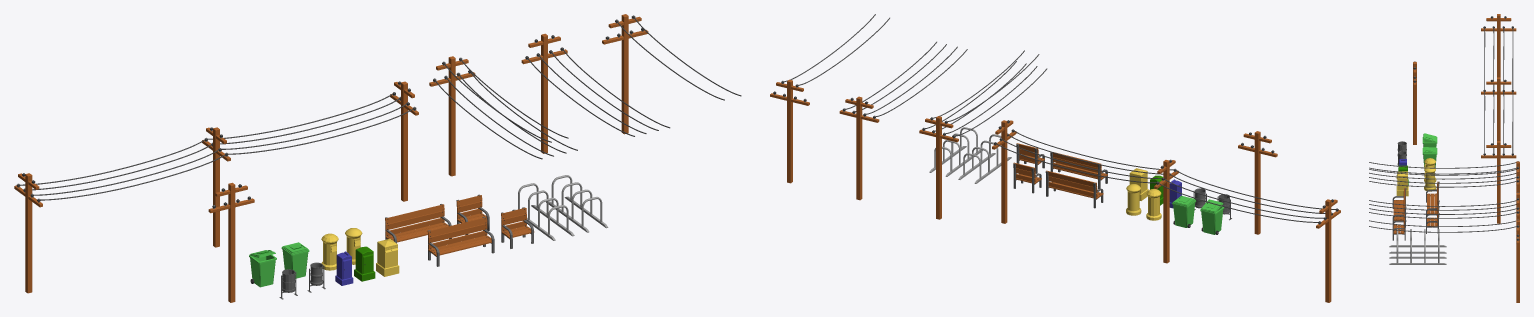
File: street_stuff_v2.fbx
3 renders of one model, left to right at view 1: azimuth 30°, elevation 25°; view 2: azimuth 150°, elevation 25°; view 3: azimuth 270°, elevation 25°, orthographic. The views are drawn at different scales.
Visible parts, largest first — view 1: Cube.003, cable.003, cable, cable.001, banco_x_3_flat, Cube.001, banco_x_3_smooth, Cube.004, Cube, aparcabicis.smooth, aparcabicis, banco_x_1_flat (+7 smaller); view 2: cable, cable.003, Cube.003, cable.001, Cube.001, banco_x_3_smooth, Cube.004, banco_x_3_flat, Cube, aparcabicis, aparcabicis.smooth, banco_x_1_smooth (+6 smaller); view 3: Cube.003, cable.001, cable.003, cable, Cube.001, Cube, aparcabicis.smooth, aparcabicis, banco_x_3_flat, Cube.004, banco_x_3_smooth, correos_yellow (+4 smaller).
Boxes of the visible parts, left/top/right/bottom form: Cube.003: left=429, top=56, right=577, bottom=176; cable.003: left=208, top=81, right=418, bottom=201; cable: left=20, top=127, right=230, bottom=247; cable.001: left=521, top=33, right=670, bottom=153; banco_x_3_flat: left=427, top=216, right=494, bottom=266; Cube.001: left=602, top=14, right=741, bottom=134; banco_x_3_smooth: left=385, top=204, right=451, bottom=243; Cube.004: left=208, top=182, right=254, bottom=302; Cube: left=14, top=173, right=42, bottom=293; aparcabicis.smooth: left=546, top=175, right=608, bottom=232; aparcabicis: left=512, top=183, right=574, bottom=240; banco_x_1_flat: left=501, top=207, right=534, bottom=248; cable: left=1154, top=159, right=1335, bottom=263; cable.003: left=992, top=120, right=1173, bottom=223; Cube.003: left=919, top=50, right=1047, bottom=219; cable.001: left=839, top=41, right=967, bottom=200; Cube.001: left=770, top=14, right=889, bottom=183; banco_x_3_smooth: left=1045, top=170, right=1103, bottom=208; Cube.004: left=1238, top=131, right=1277, bottom=234; banco_x_3_flat: left=1050, top=152, right=1107, bottom=188; Cube: left=1316, top=199, right=1340, bottom=302; aparcabicis: left=958, top=134, right=1011, bottom=183; aparcabicis.smooth: left=929, top=127, right=982, bottom=176; banco_x_1_smooth: left=1013, top=162, right=1041, bottom=193; Cube.003: left=1369, top=161, right=1519, bottom=192; cable.001: left=1369, top=192, right=1519, bottom=220; cable.003: left=1481, top=91, right=1516, bottom=223; cable: left=1481, top=27, right=1516, bottom=140; Cube.001: left=1369, top=219, right=1519, bottom=302; Cube: left=1481, top=14, right=1516, bottom=77; aparcabicis.smooth: left=1389, top=240, right=1446, bottom=264; aparcabicis: left=1389, top=229, right=1446, bottom=253; banco_x_3_flat: left=1392, top=188, right=1406, bottom=227; Cube.004: left=1413, top=61, right=1416, bottom=144; banco_x_3_smooth: left=1426, top=181, right=1439, bottom=215; correos_yellow: left=1396, top=171, right=1408, bottom=196.
Bounding box in the file's own units: 7.04 × 4.19 × 23.68.
